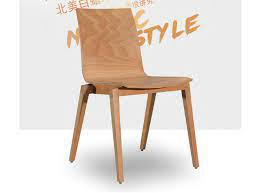chair: (66, 4, 212, 178)
